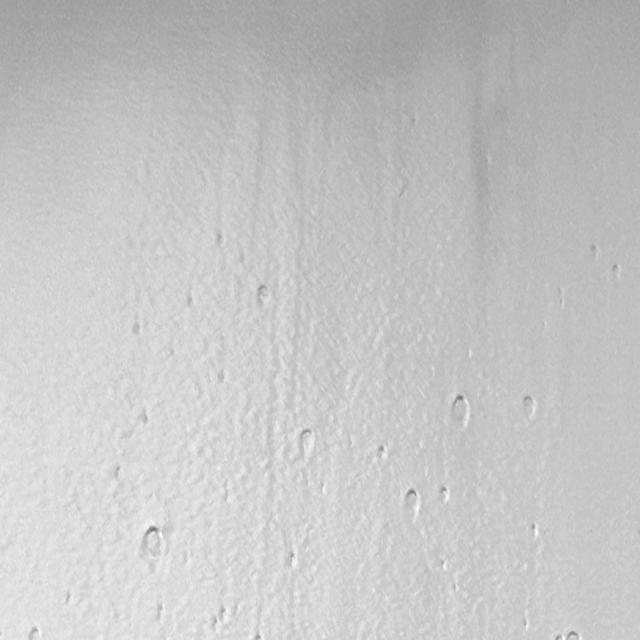pin holes: (140, 525, 170, 570), (446, 392, 472, 429), (294, 426, 319, 460), (401, 486, 423, 518), (519, 392, 541, 422), (252, 282, 272, 309), (212, 606, 231, 632), (527, 520, 546, 542), (284, 549, 302, 572), (130, 316, 148, 339), (436, 484, 454, 506), (153, 599, 168, 625), (111, 461, 128, 483), (218, 603, 233, 627), (206, 614, 222, 636), (214, 230, 229, 252), (25, 625, 43, 640), (376, 444, 390, 463), (554, 288, 566, 310), (610, 262, 624, 280), (62, 590, 76, 608), (218, 368, 228, 393), (587, 242, 600, 260), (563, 629, 585, 639), (520, 617, 532, 633), (142, 413, 150, 429)
